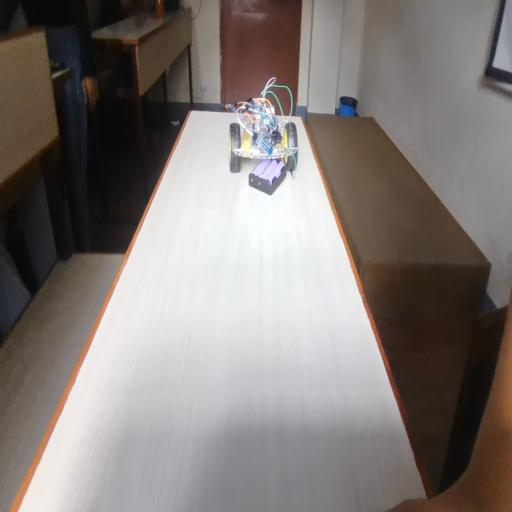car: (217, 78, 307, 176)
